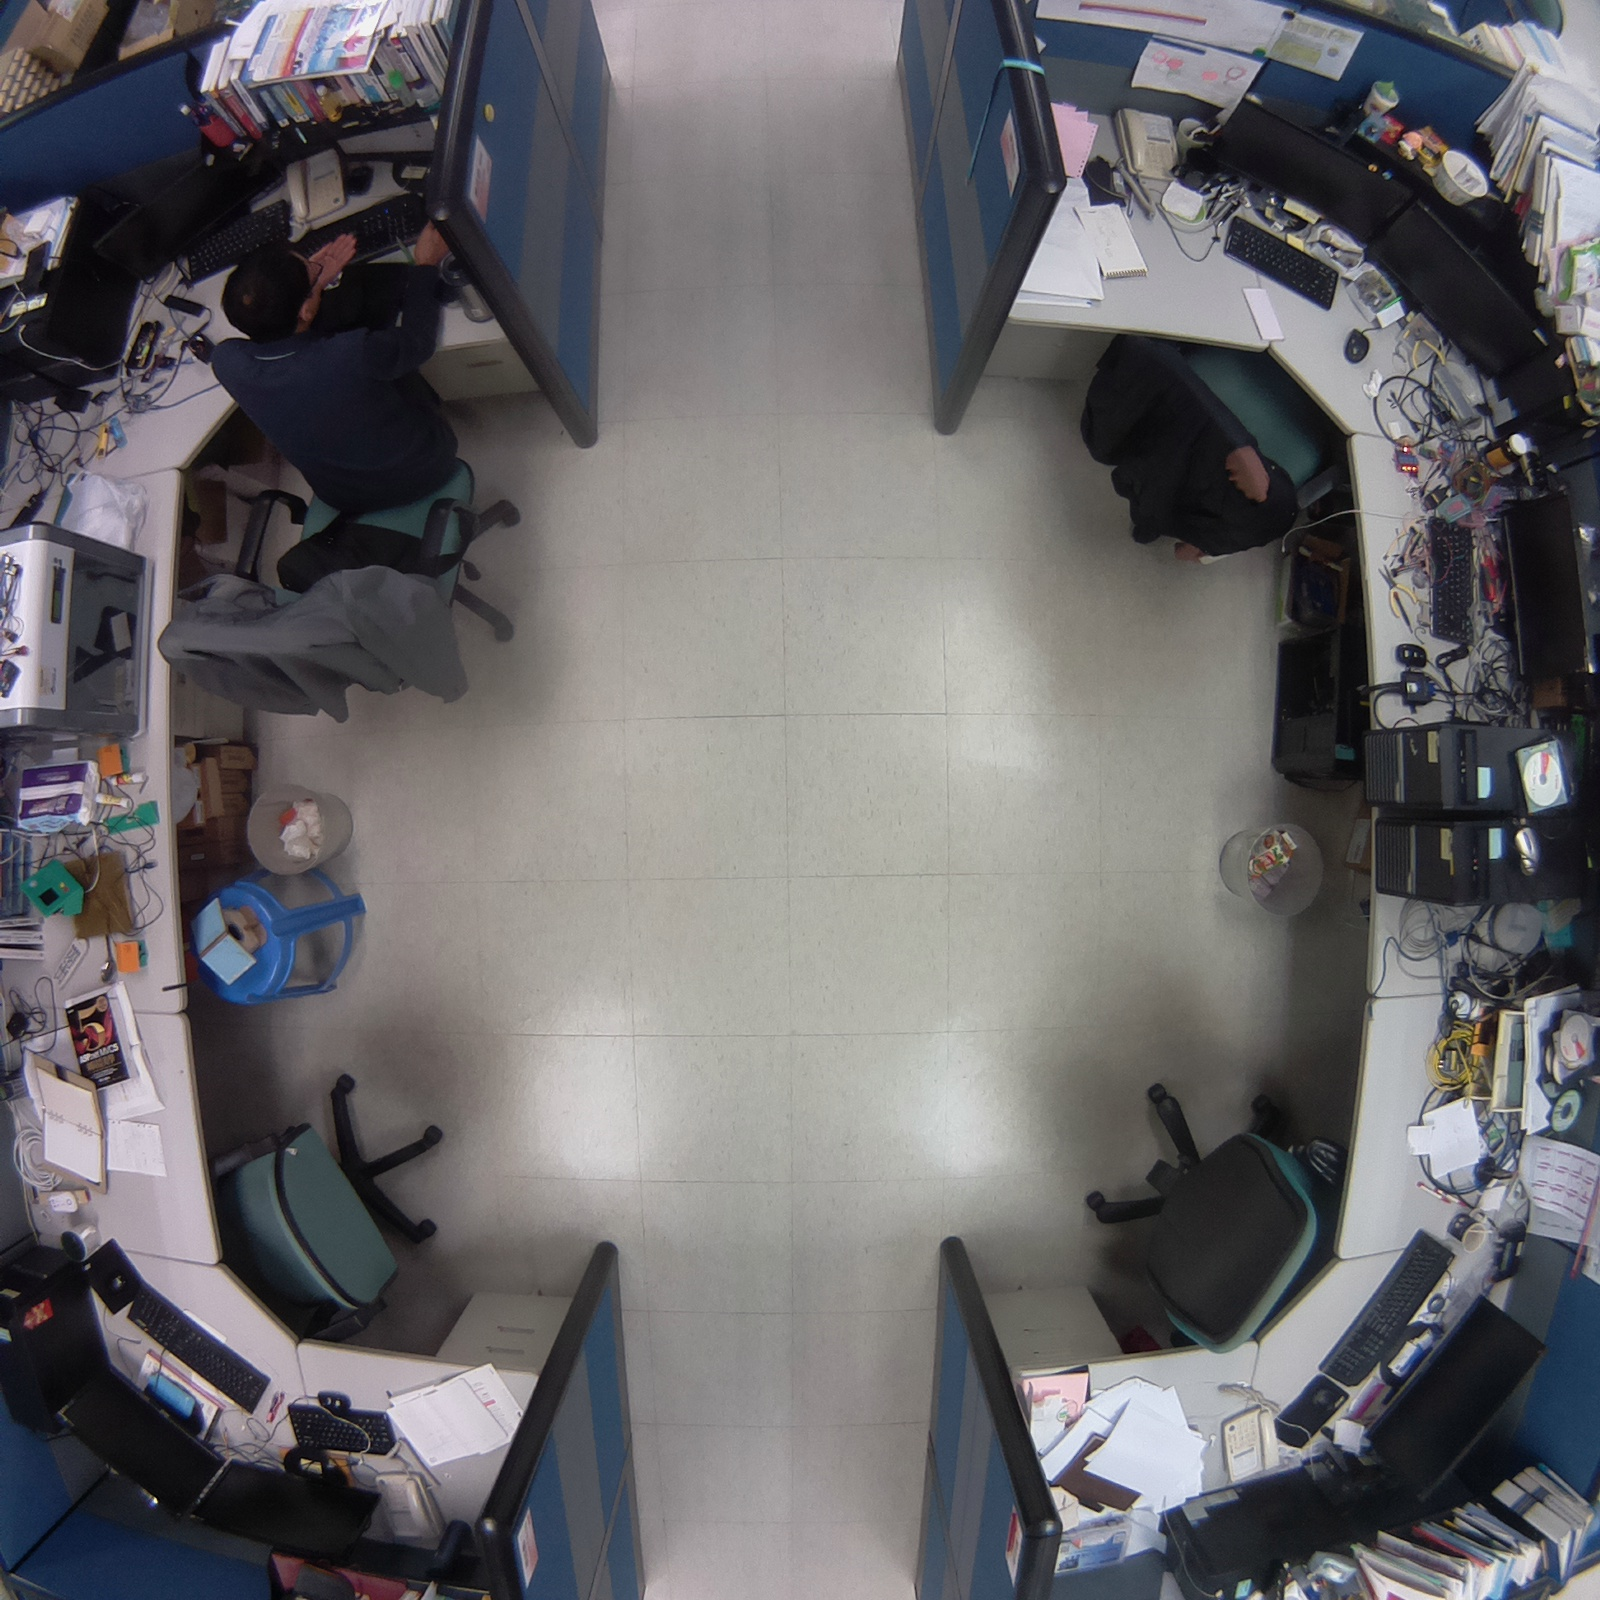chair: (188, 1040, 483, 1352), (1070, 1060, 1350, 1363), (1065, 314, 1363, 578)
head: (217, 236, 321, 342)
sitting: (140, 191, 535, 737)
